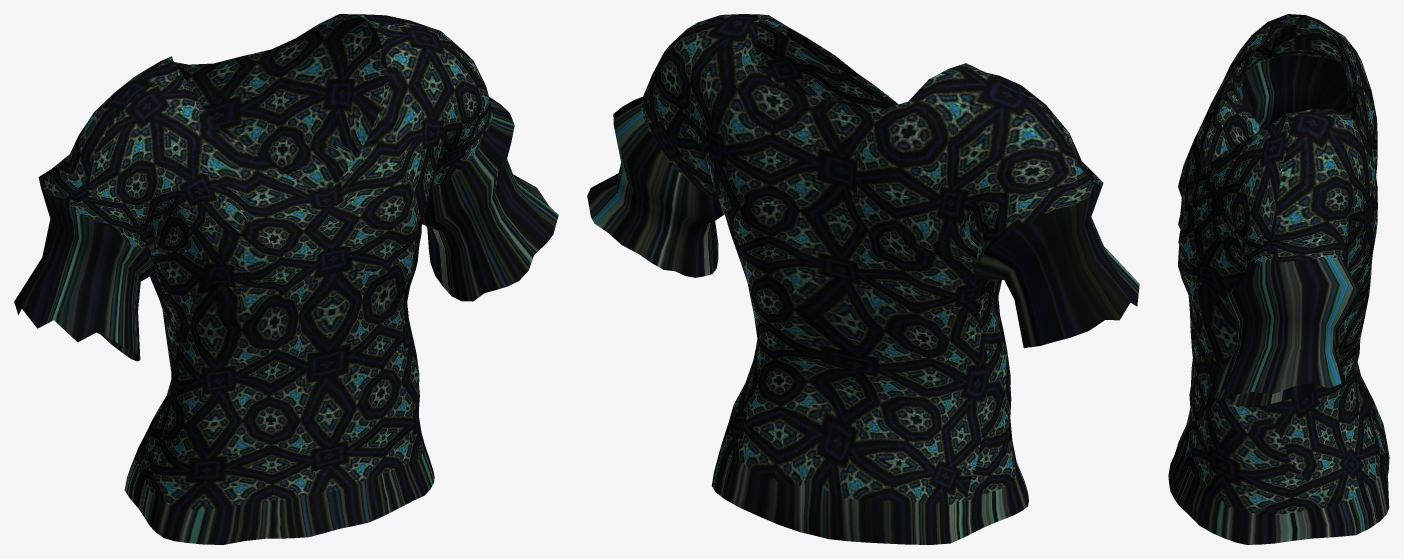
Rendered from elvs-ruffle-sleeve-peasant-blouse-1.glb.
The picture shows the model from 3 angles, left to right: view 1: azimuth 30°, elevation 25°; view 2: azimuth 150°, elevation 25°; view 3: azimuth 270°, elevation 25°; orthographic projection. The views are drawn at different scales.
Visible parts, largest first — view 1: Human.elvs_ruffle_sleeve_peasant_blouse_1; view 2: Human.elvs_ruffle_sleeve_peasant_blouse_1; view 3: Human.elvs_ruffle_sleeve_peasant_blouse_1.
Part boxes in pixels (<box>): Human.elvs_ruffle_sleeve_peasant_blouse_1: <box>14,14,558,544</box>; Human.elvs_ruffle_sleeve_peasant_blouse_1: <box>587,14,1139,544</box>; Human.elvs_ruffle_sleeve_peasant_blouse_1: <box>1168,14,1389,544</box>.
Bounding box in the file's own units: 0.7195 × 0.5922 × 0.2799.
Materials: 1 (1 with a texture image).
